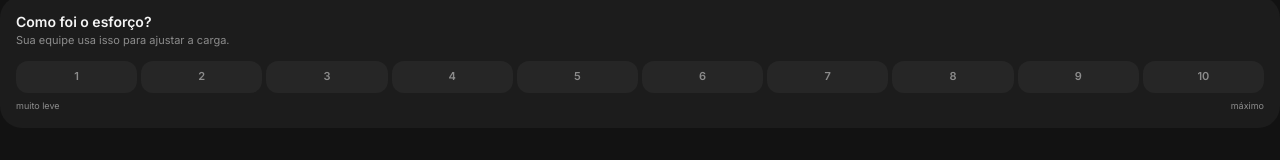
Scenario: Esforço percebido (PDF do Ernâni, tela 23) › mostra 1 a 10 e devolve o valor escolhido
Click the radio button named "Esforço 7" at coordinates (828, 76), box 767,60 -> 888,92
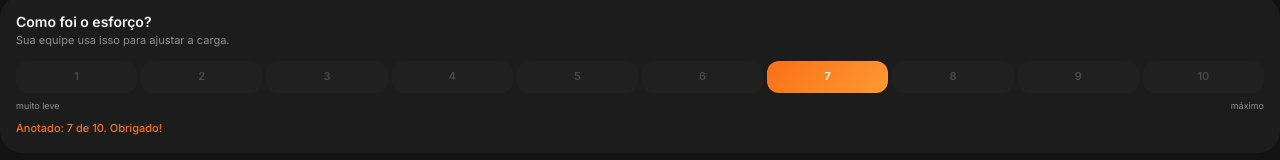
Check: the text "Anotado: 7 de 10. Obrigado!" is shown, box 16,121 -> 162,135
